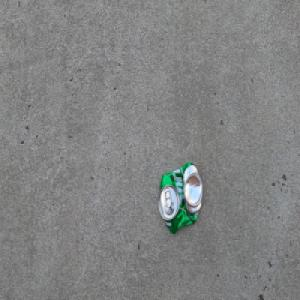SodaCan: (157, 161, 202, 234)
